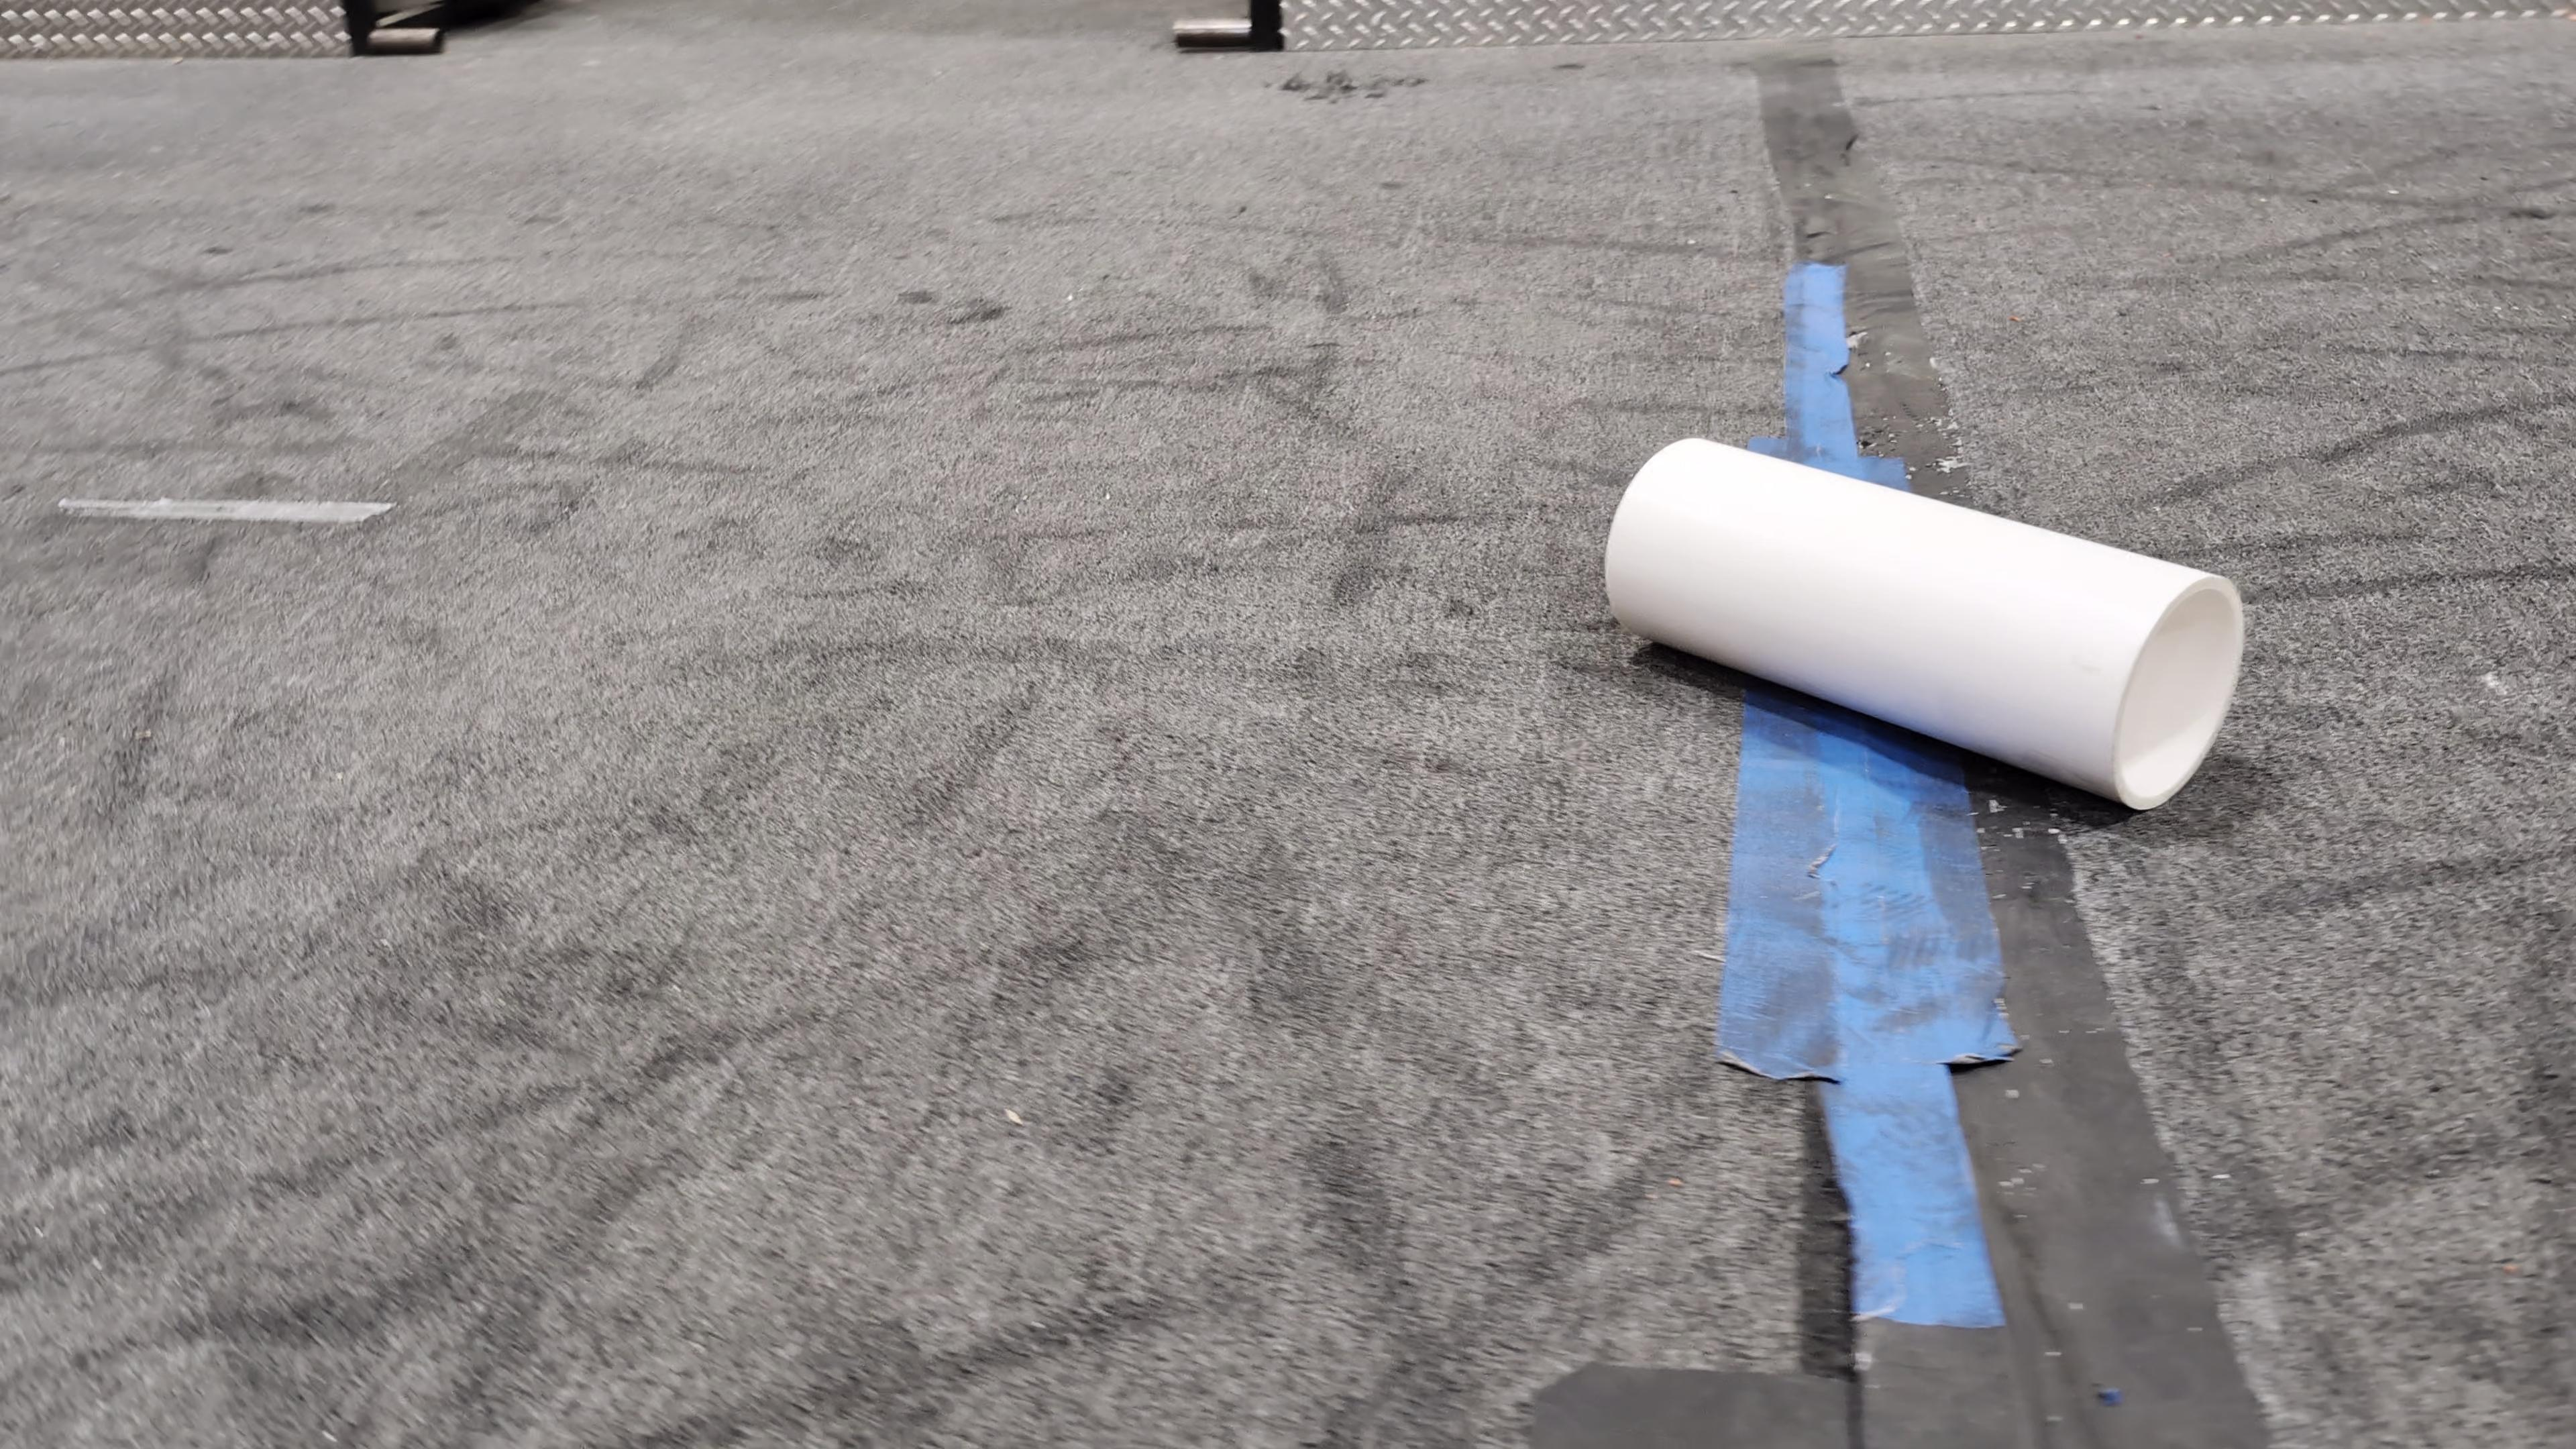coral: (1606, 437, 2245, 809)
